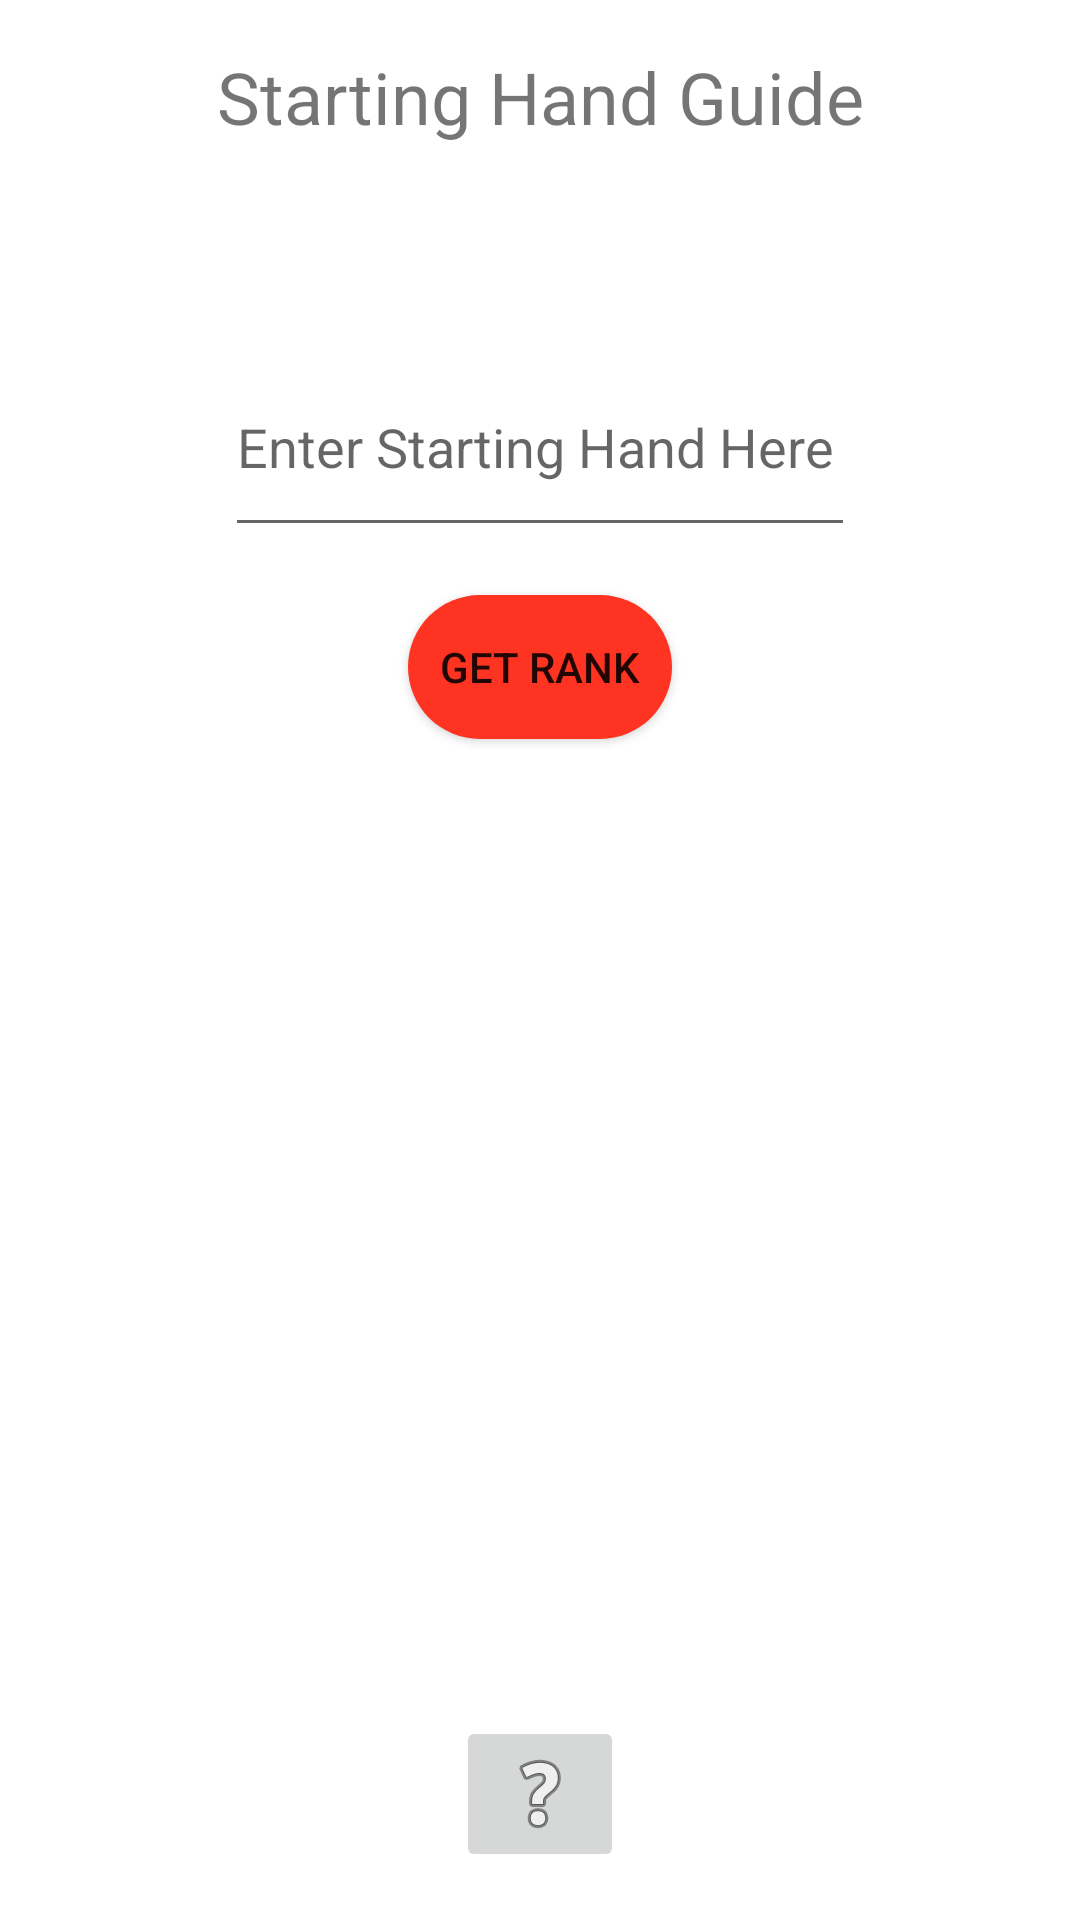

Locate icon controls on the screen. Image size 1080x1920, boxes as (x1, y1, x2, y2).
More Info: (468, 1734, 612, 1854)
